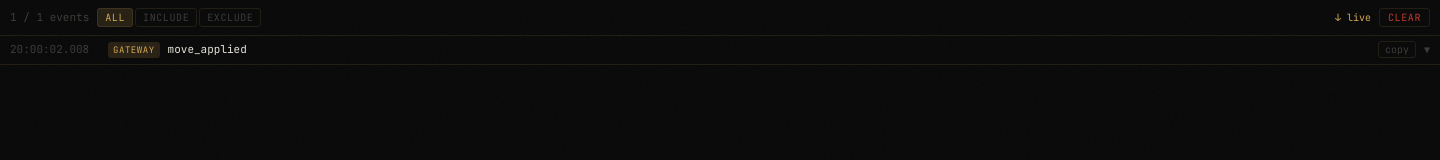
WsDevtools › include filter with no match shows filter empty state
Click the button with test id "filter-mode-include". click: [166, 18]
box: x1=135 y1=8 x2=197 y2=27
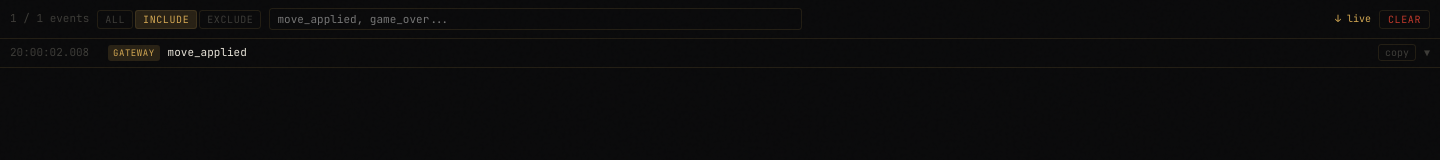
Type "game_over" into the field with test id "filter-input". click: [536, 19]
box: x1=270 y1=8 x2=802 y2=30
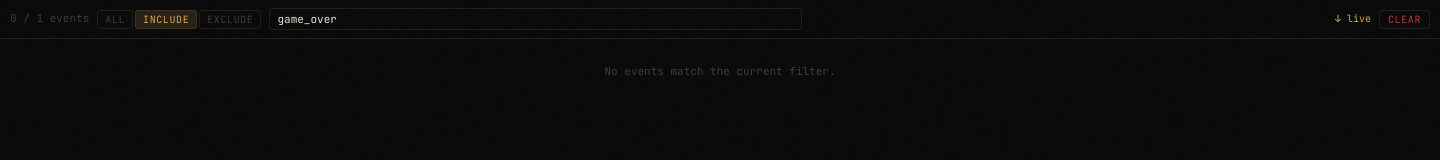
Expected: the text with test id "empty-state" shows "No events match", x1=604 y1=64 x2=836 y2=78
Expected: the element with test id "ws-devtools-toolbar" shows "0 / 1 events", x1=0 y1=0 x2=1439 y2=39
